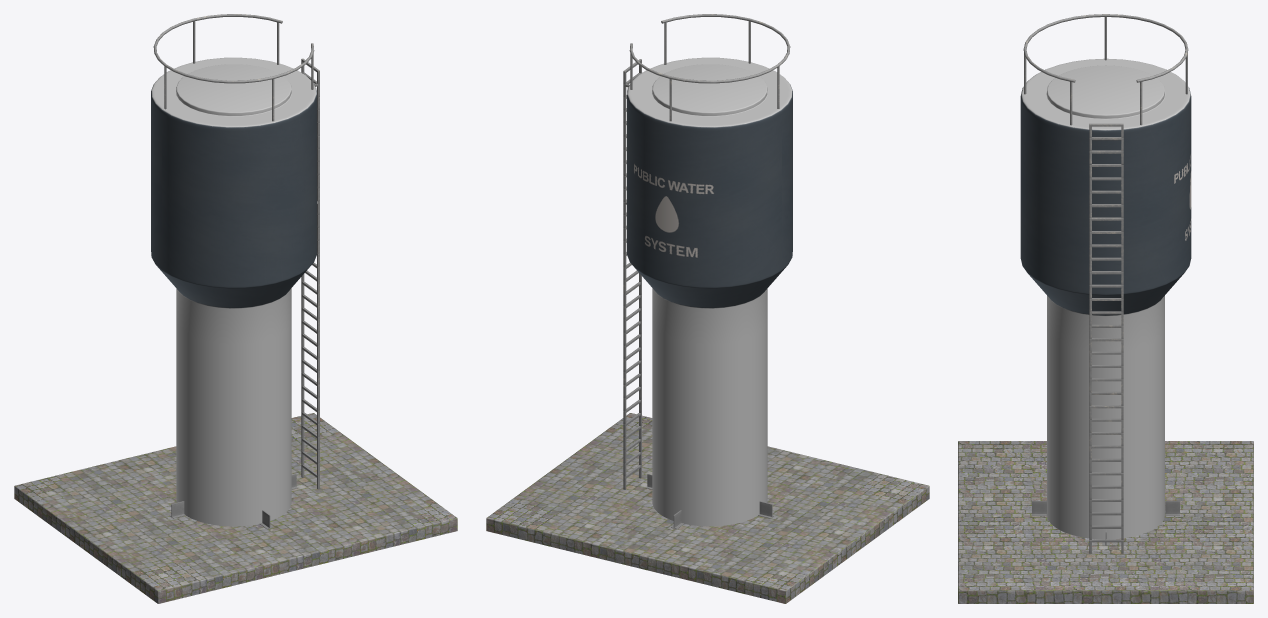
3 renders of one model, left to right at view 1: azimuth 30°, elevation 25°; view 2: azimuth 150°, elevation 25°; view 3: azimuth 270°, elevation 25°, orthographic. The views are drawn at different scales.
Parts seen in each view (by area): view 1: caixaDagua; view 2: caixaDagua; view 3: caixaDagua.
Boxes of the visible parts, x1=… form: caixaDagua: x1=14, y1=14, x2=457, y2=603; caixaDagua: x1=486, y1=14, x2=929, y2=603; caixaDagua: x1=958, y1=14, x2=1253, y2=603.
Size of the model in its own units: 6 by 8.95 by 5.
Materials: 1 (1 with a texture image).
